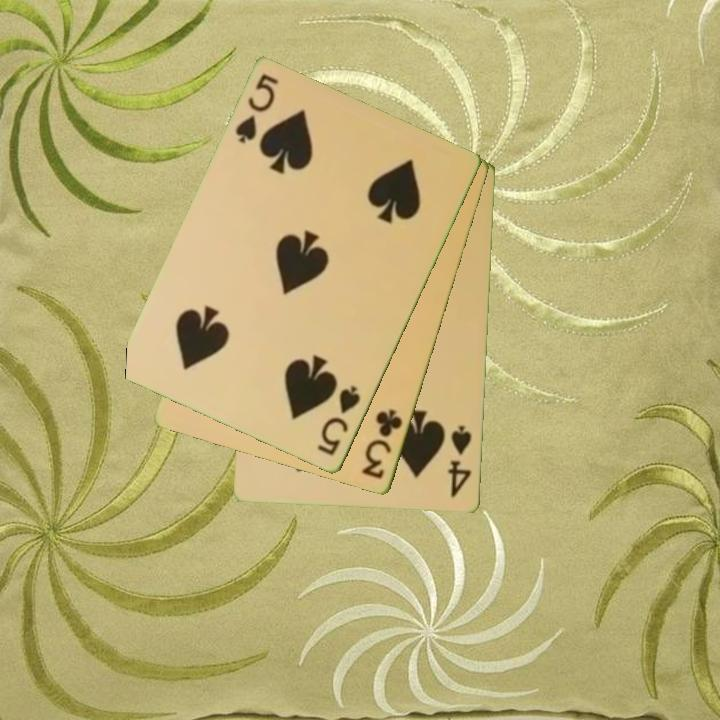3c: (359, 406, 406, 483)
4s: (445, 422, 475, 501)
5s: (314, 382, 364, 459), (232, 71, 282, 147)
